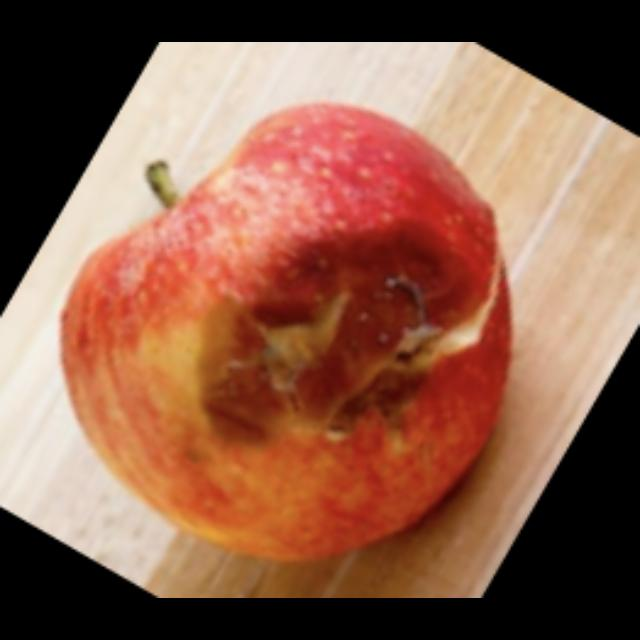Apel Tidak Segar: (19, 61, 552, 579)
